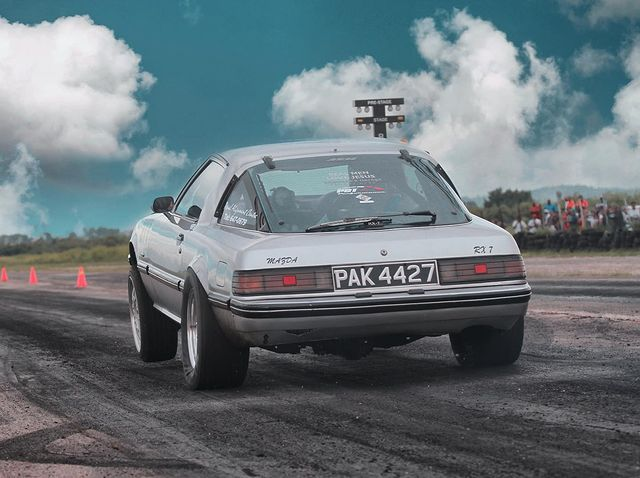License-Plate: (332, 267, 435, 290)
